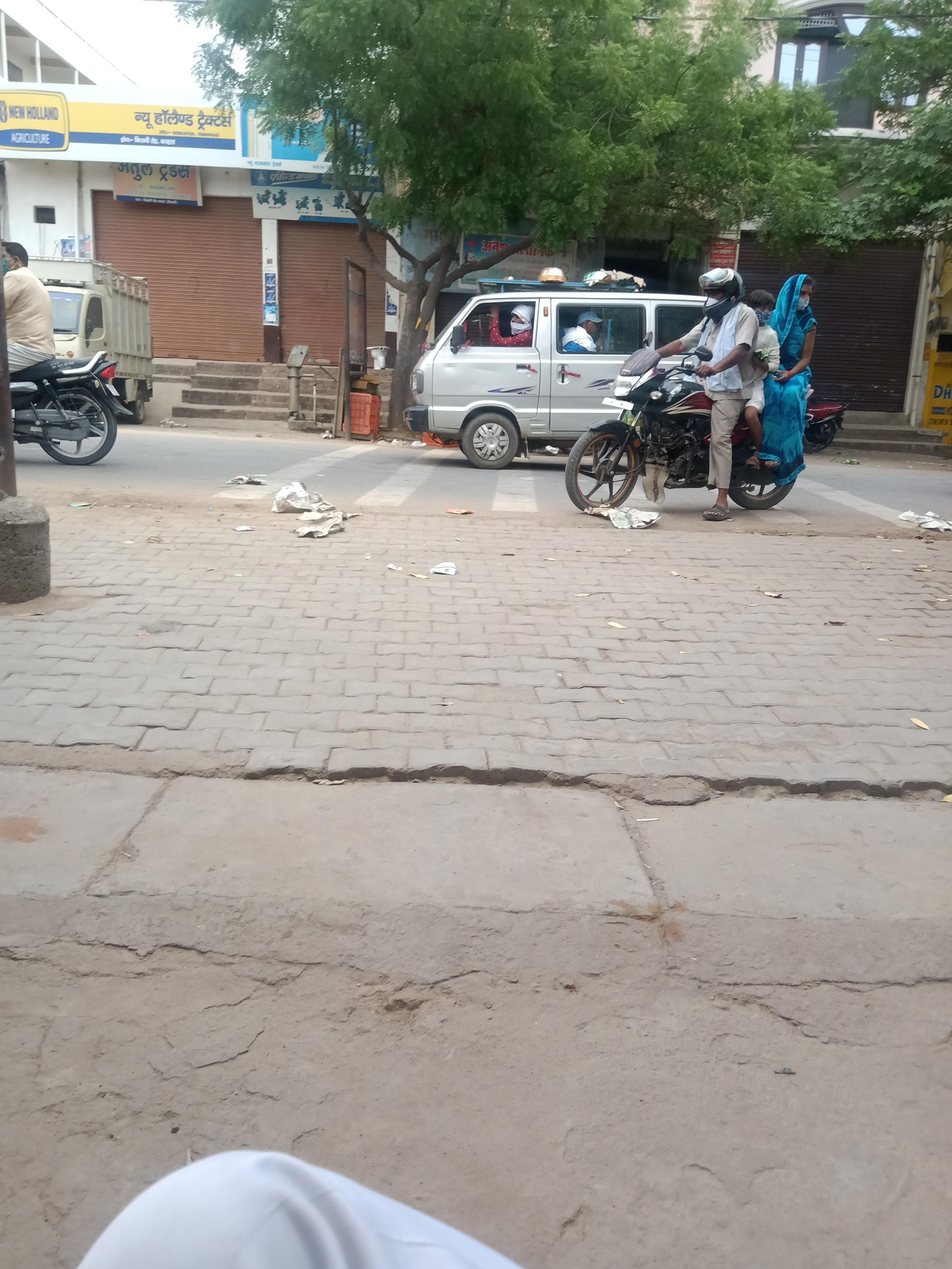non-ambulance: (355, 193, 861, 539)
